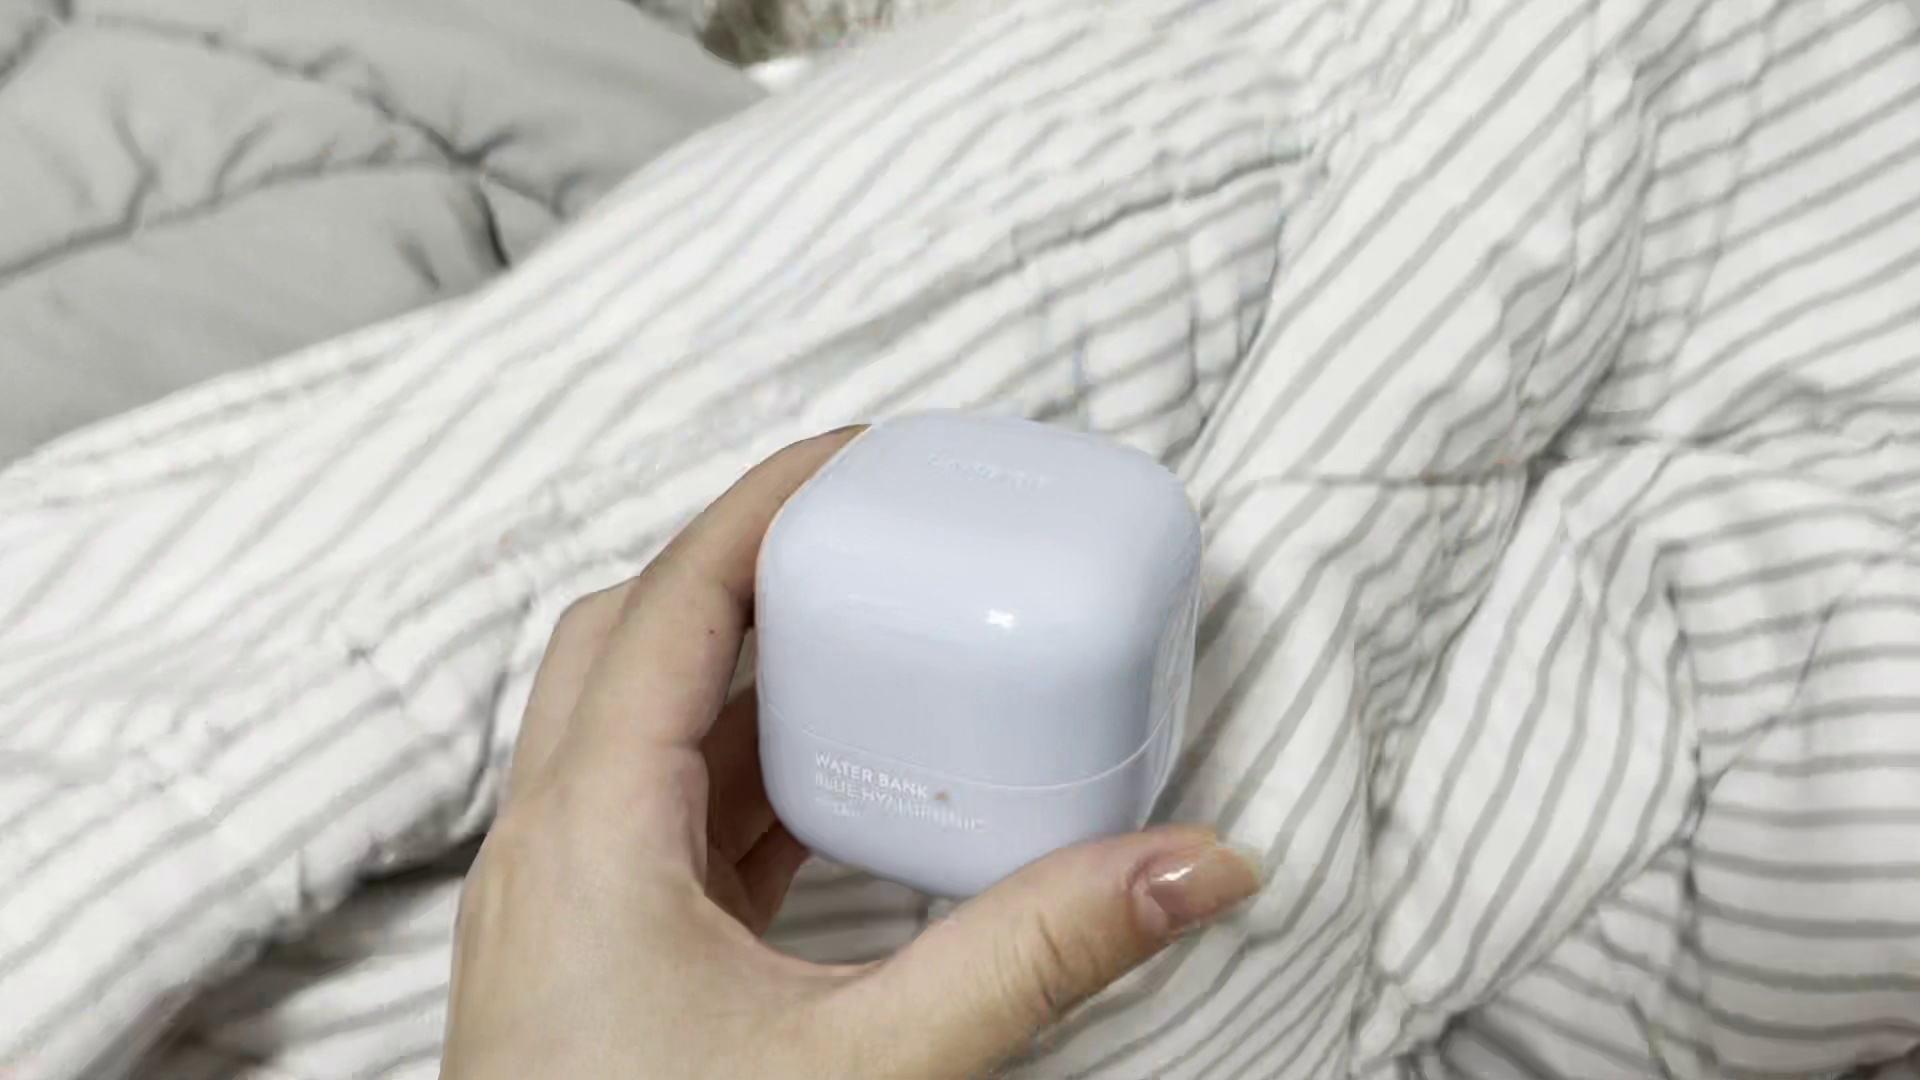cream: (754, 409, 1203, 899)
